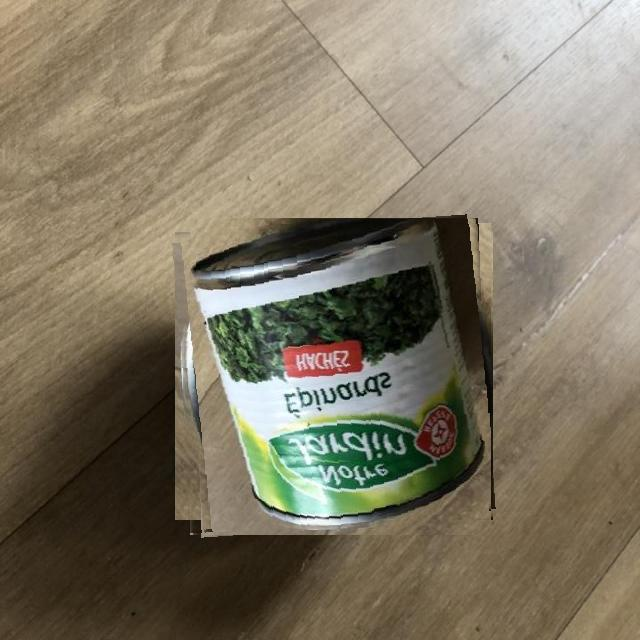recyclable: (177, 219, 491, 533)
